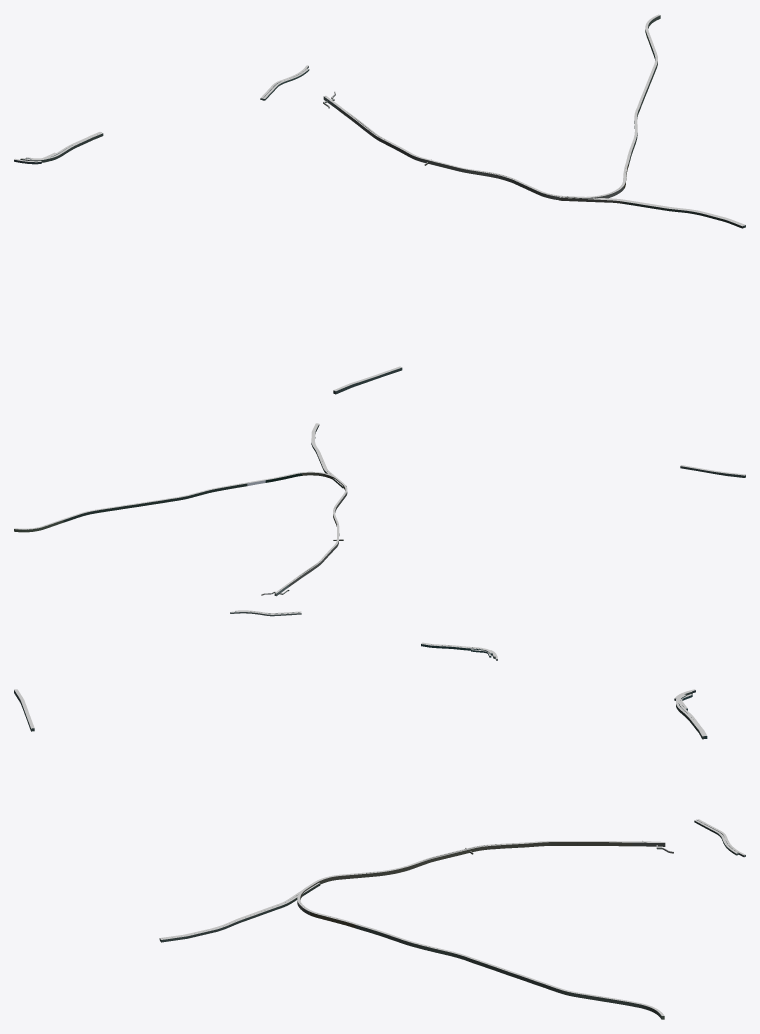
The model's file is structures.glb.
3 views of the same model, one above another, from view 1: azimuth 30°, elevation 25°; view 2: azimuth 150°, elevation 25°; view 3: azimuth 270°, elevation 25° (orthographic). The views are drawn at different scales.
Visible parts, largest first — view 1: struct_body, struct_deck; view 2: struct_body, struct_deck; view 3: struct_body, struct_deck.
Boxes of the visible parts, x1,y1,x2,y2 form: struct_body: (14, 15, 745, 394); struct_deck: (14, 14, 745, 391); struct_body: (14, 424, 745, 660); struct_deck: (14, 423, 745, 659); struct_body: (14, 690, 745, 1019); struct_deck: (14, 689, 745, 1015).
Bounding box in the file's own units: 2440 × 16.08 × 2296.
